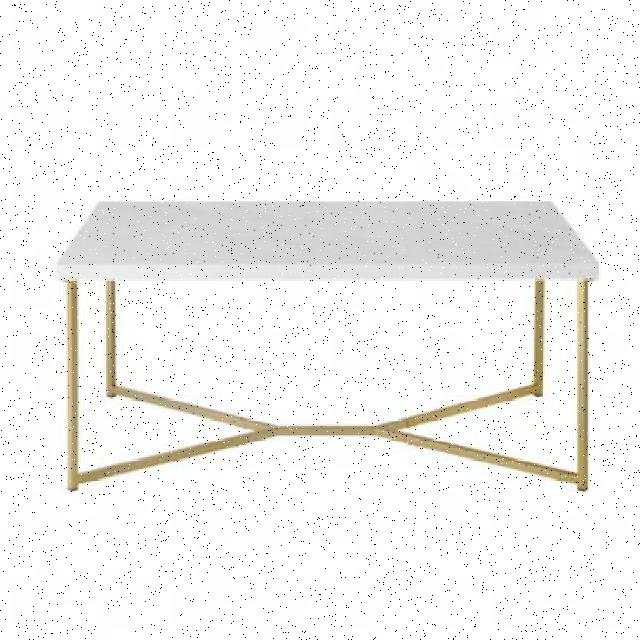mobile-phone: (52, 193, 598, 493)
